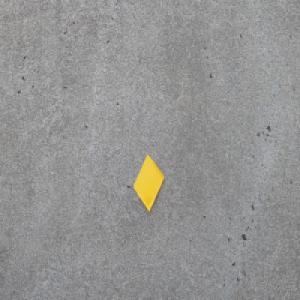PlasticPart: (132, 153, 164, 213)
